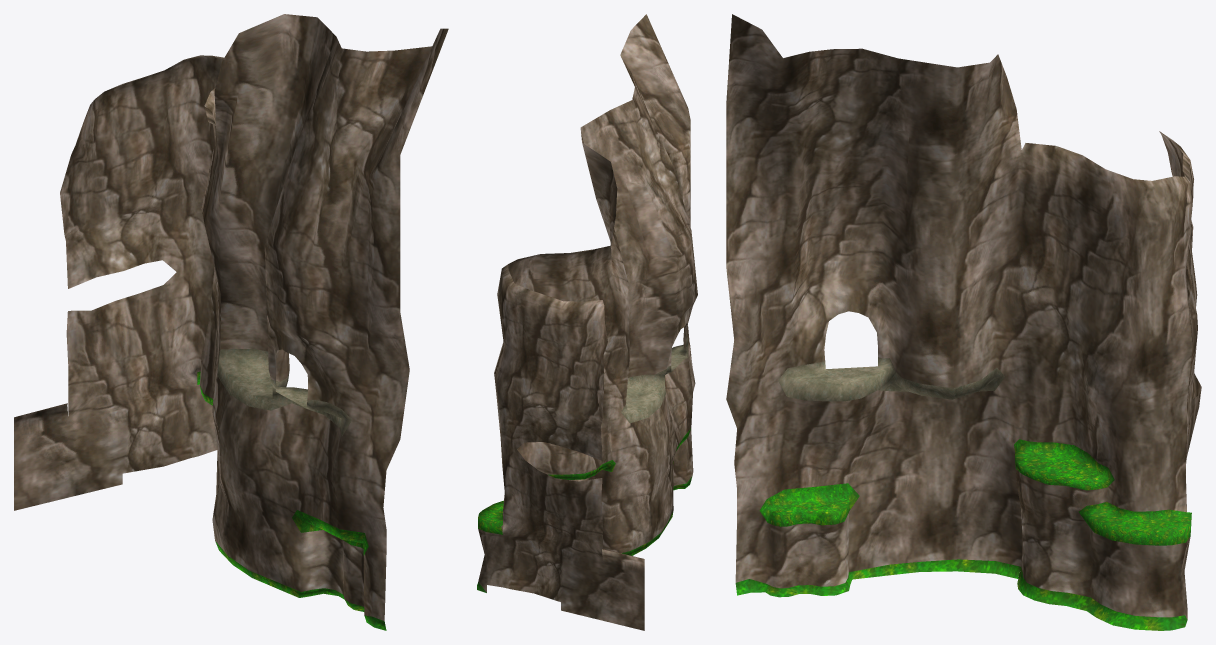
File: EKH_ENTRANCE_PS_EN_WALL_CHUNK471__GX.fbx
The picture shows the model from 3 angles, left to right: view 1: azimuth 30°, elevation 25°; view 2: azimuth 150°, elevation 25°; view 3: azimuth 270°, elevation 25°; orthographic projection. The views are drawn at different scales.
Parts seen in each view (by area): view 1: EKH_ENTRANCE_PS_EN_WALL_CHUNK471__GX; view 2: EKH_ENTRANCE_PS_EN_WALL_CHUNK471__GX; view 3: EKH_ENTRANCE_PS_EN_WALL_CHUNK471__GX.
Boxes of the visible parts, x1,y1,x2,y2 form: EKH_ENTRANCE_PS_EN_WALL_CHUNK471__GX: [14, 14, 448, 630]; EKH_ENTRANCE_PS_EN_WALL_CHUNK471__GX: [477, 14, 697, 630]; EKH_ENTRANCE_PS_EN_WALL_CHUNK471__GX: [726, 14, 1201, 630].
Bounding box in the file's own units: 94555 × 235910 × 166070.
3 materials, 3 textured.
